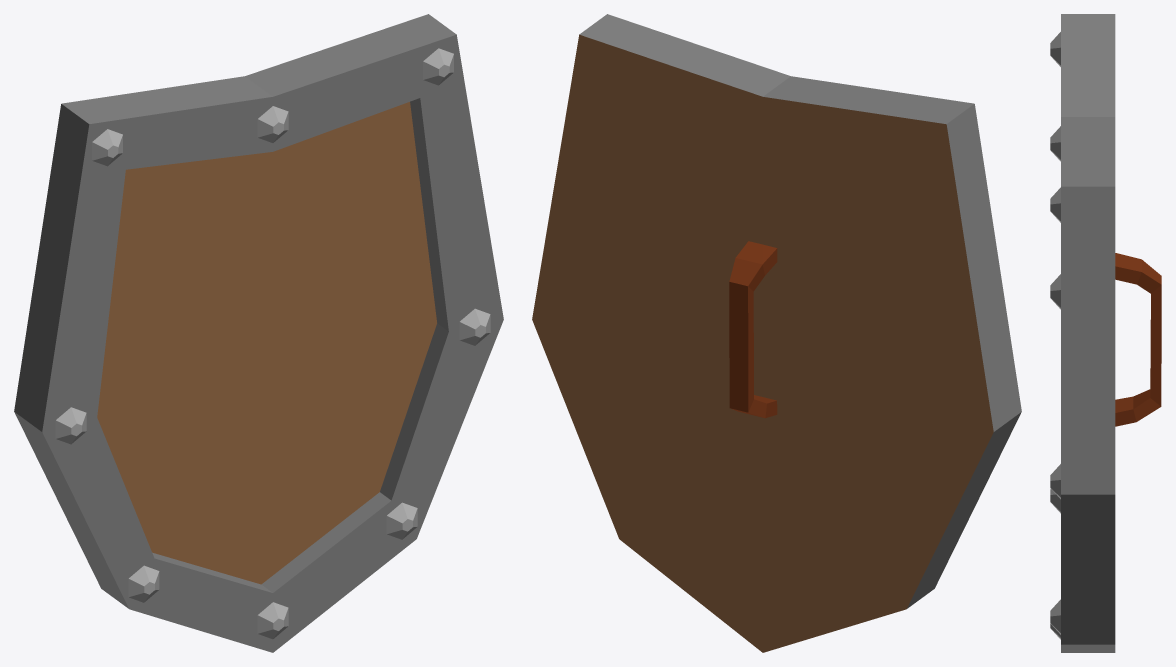
File: shield_1.fbx
3 renders of one model, left to right at view 1: azimuth 30°, elevation 25°; view 2: azimuth 150°, elevation 25°; view 3: azimuth 270°, elevation 25°, orthographic. The views are drawn at different scales.
Visible parts, largest first — view 1: Cylinder.003; view 2: Cylinder.003; view 3: Cylinder.003.
Part boxes in pixels (<box>): Cylinder.003: <box>14,14,503,652</box>; Cylinder.003: <box>532,14,1021,652</box>; Cylinder.003: <box>1050,14,1161,652</box>.
Size of the model in its own units: 2.64 by 3.14 by 0.5746.
